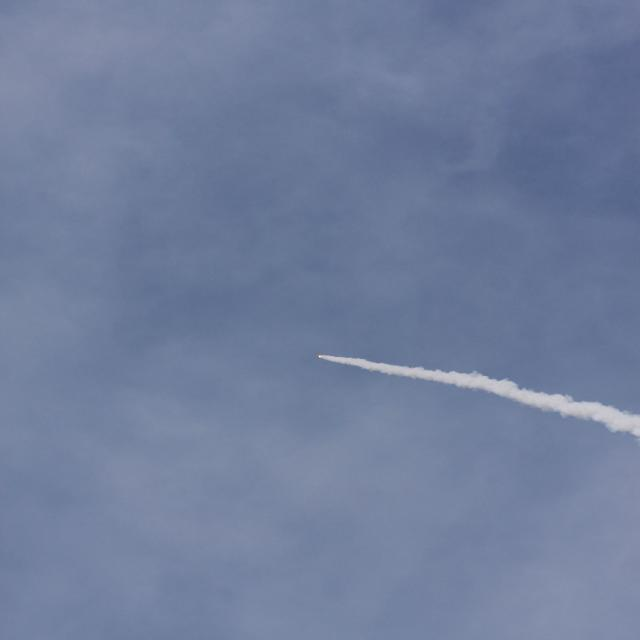Rocket: (316, 354, 320, 358)
